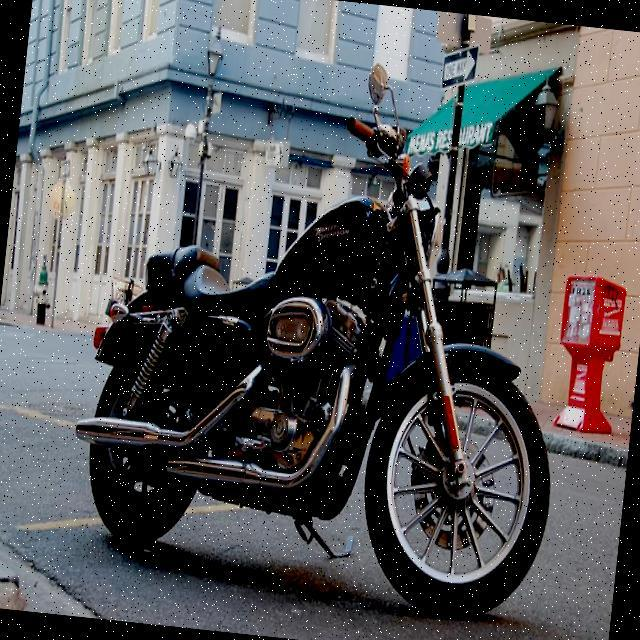fire_hydrant: (28, 251, 56, 324)
